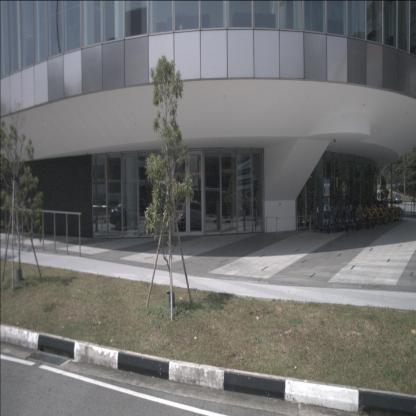vehicle-car: (176, 201, 212, 230), (110, 202, 144, 230), (393, 194, 403, 204)
